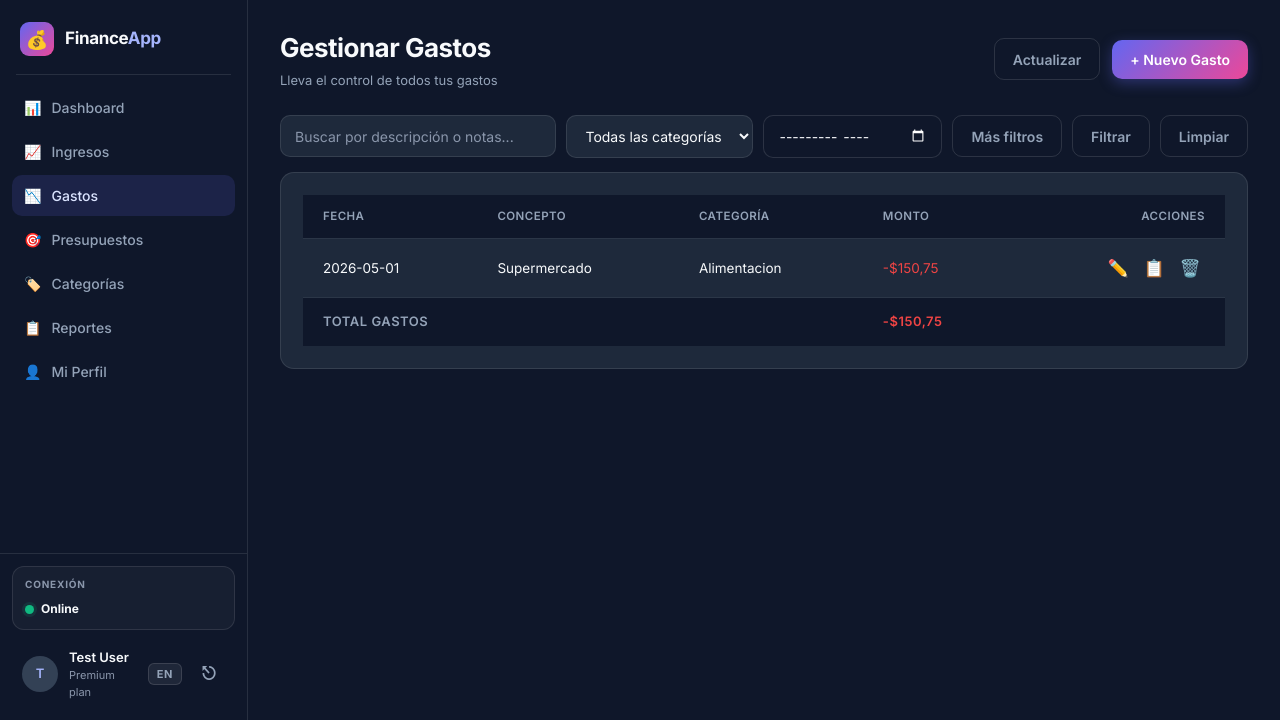
Test: CRUD de Gastos (E2E) › Debe crear un gasto con datos validos
Click the button with test id "new-expense-button".
click(1180, 60)  # box [1112,40,1248,79]
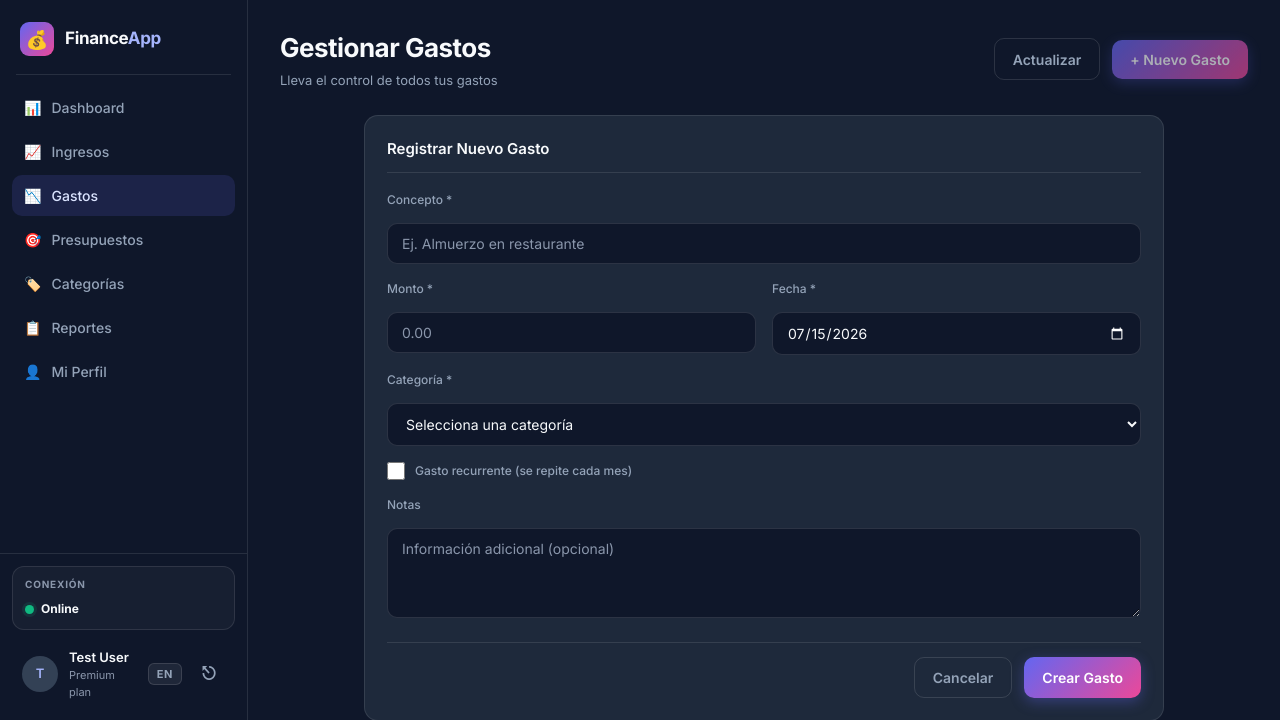
Type "Supermercado" into the field with test id "expense-concept".
click(764, 244); type("Supermercado")  # box [387,223,1141,264]
Type "150.75" into the field with test id "expense-amount".
click(572, 333); type("150.75")  # box [387,312,756,353]
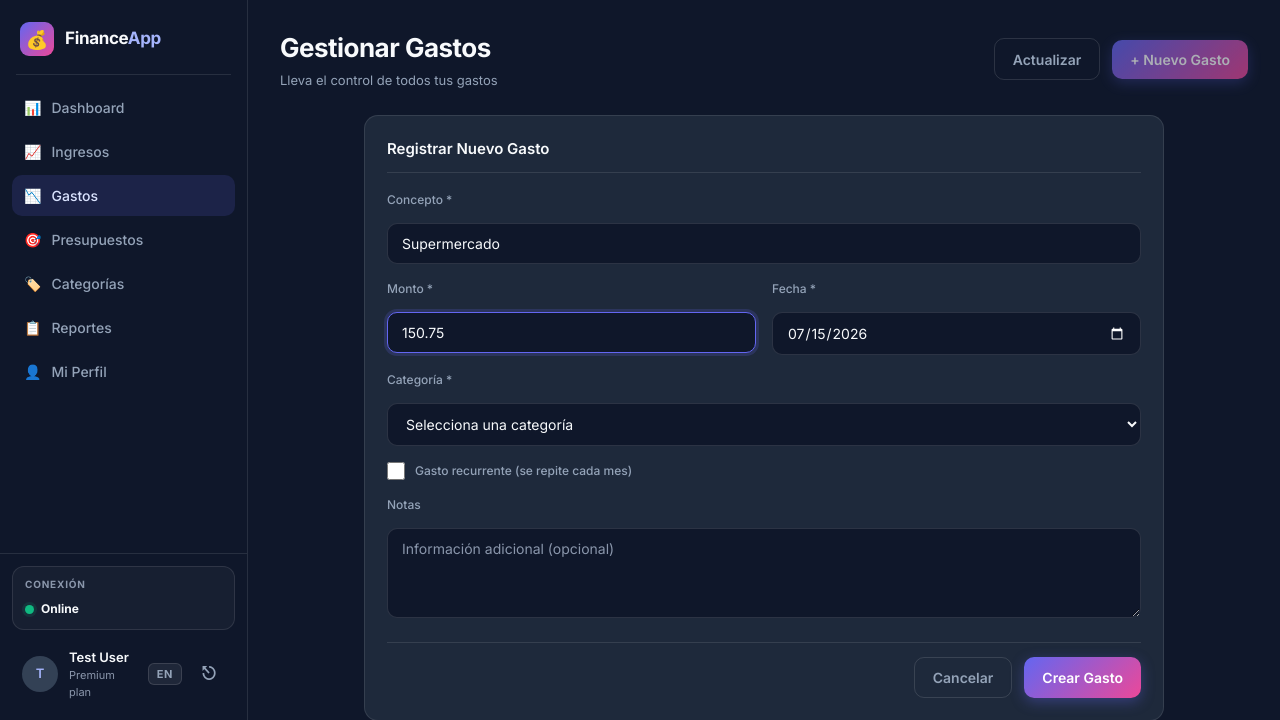
Select "Alimentacion" in the dropdown with test id "expense-category" at point(764, 425), box [387,403,1141,446]
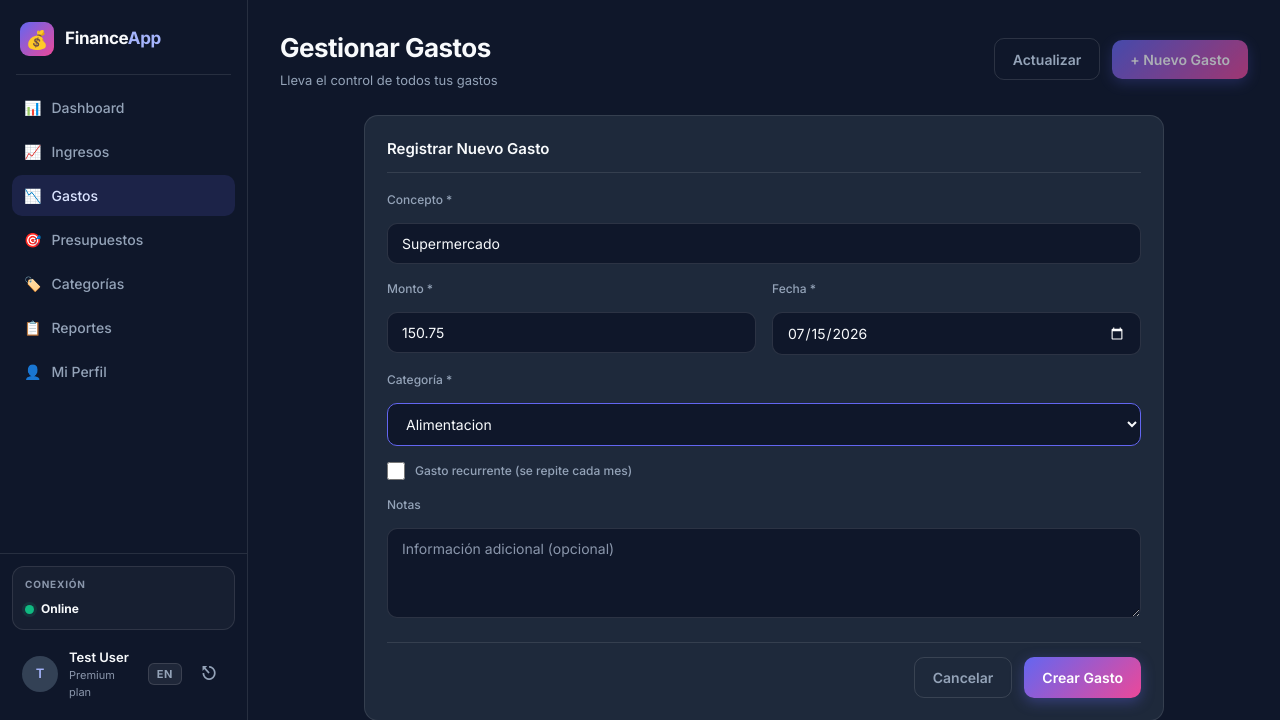
Type "2026-05-01" into the date field with test id "expense-date".
click(957, 334); type("2026-05-01")  # box [772,312,1141,355]
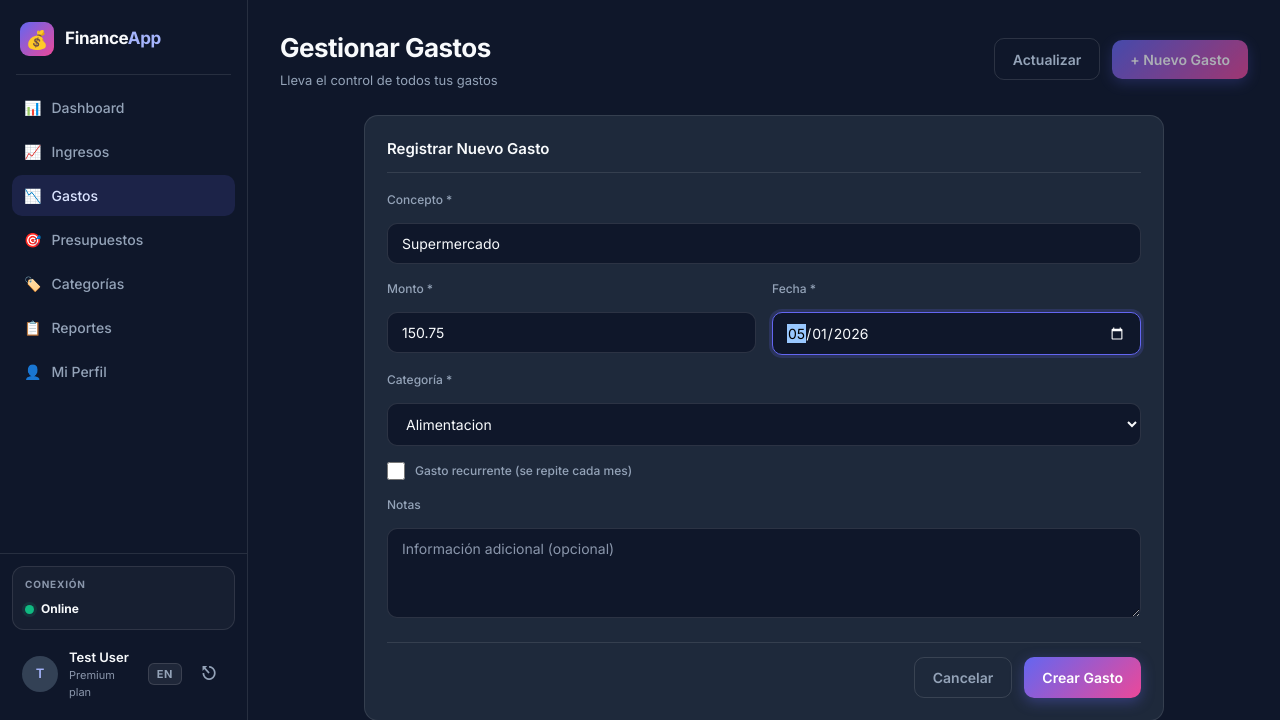
Type "Compra semanal de alimentos" into the text box with test id "expense-notes".
click(764, 573); type("Compra semanal de alimentos")  # box [387,528,1141,618]
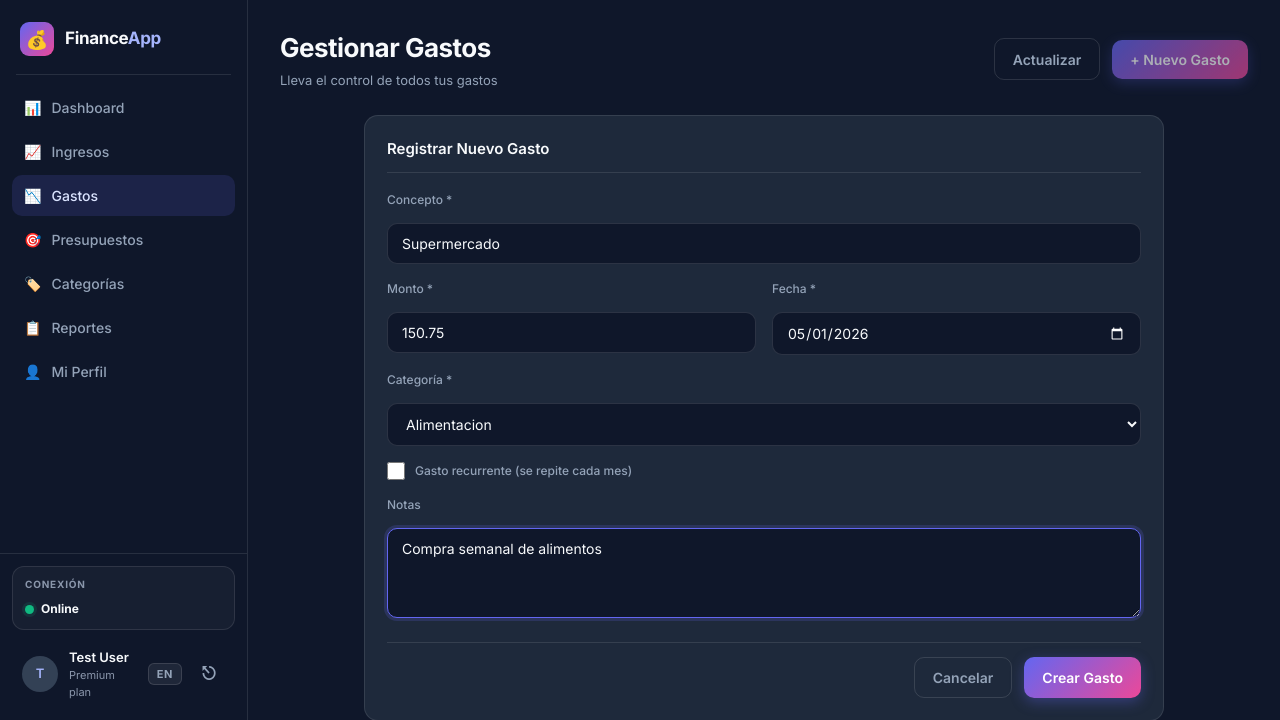
Click the button with test id "expense-submit".
click(1083, 678)  # box [1024,657,1141,698]
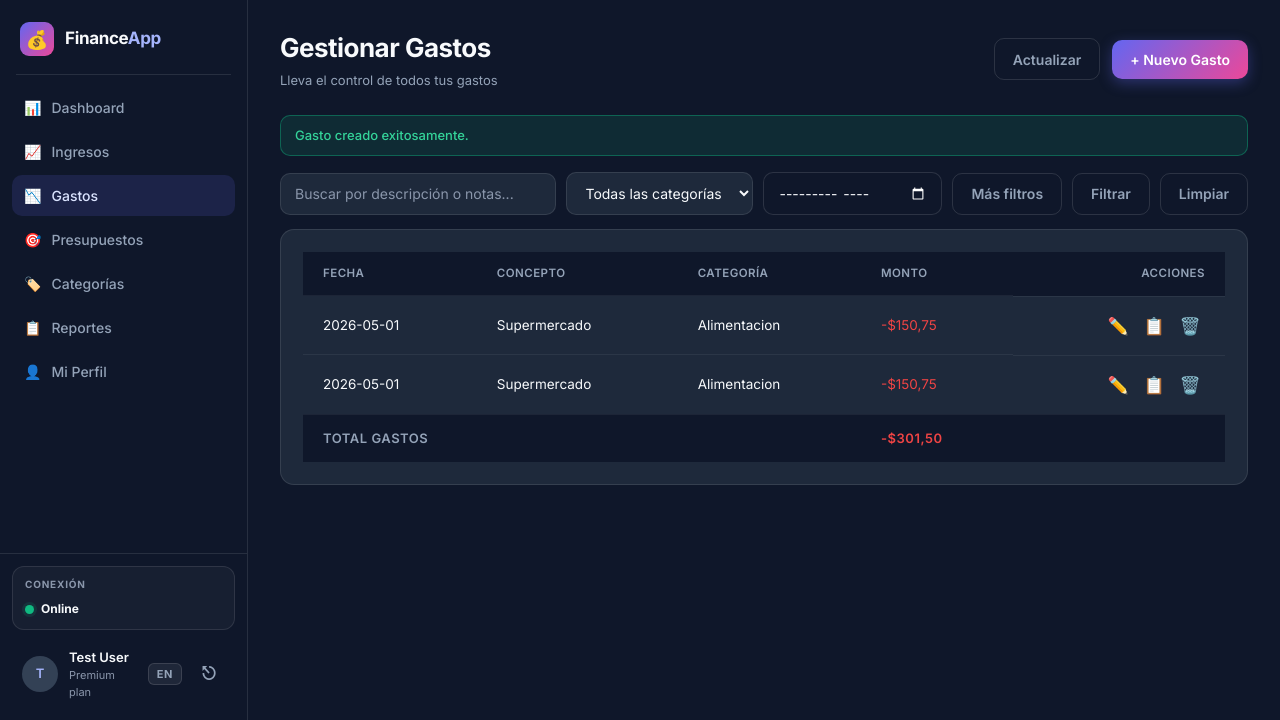
expect the message with test id "success-message" shows "creado": met, box [295,127,469,143]
expect the cell with test id "expense-list" reads "Supermercado": met, box [497,317,591,333]
